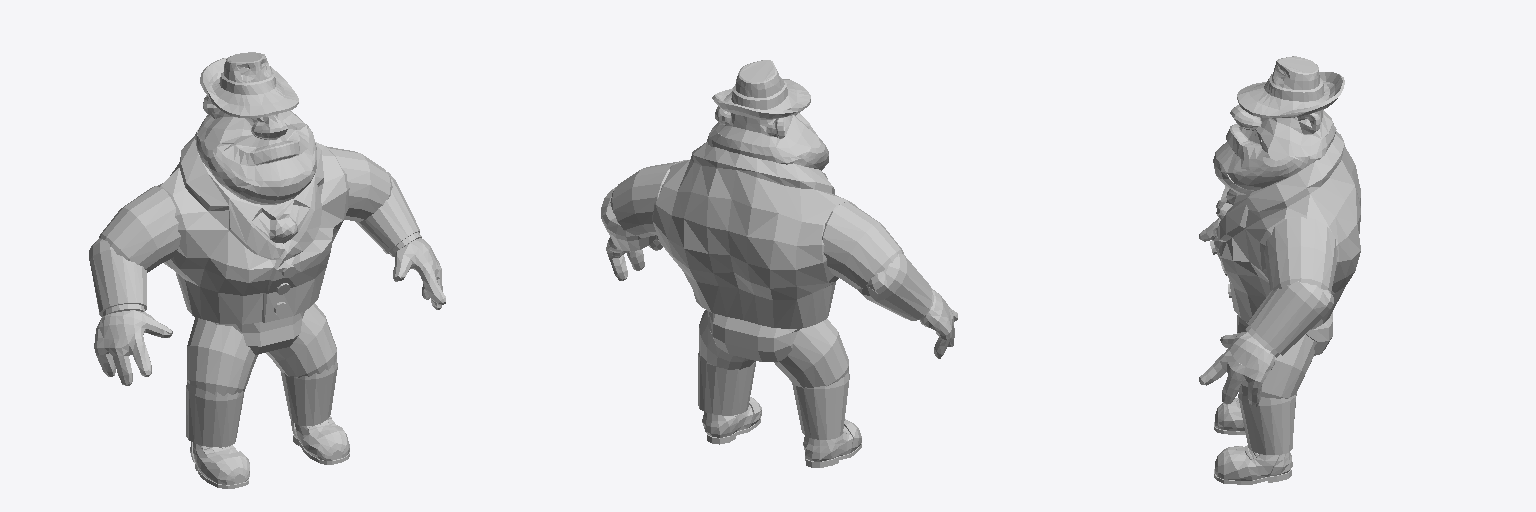
Rendered from _man.obj.
The picture shows the model from 3 angles: view 1: azimuth 30°, elevation 25°; view 2: azimuth 150°, elevation 25°; view 3: azimuth 270°, elevation 25°; orthographic projection.
Parts seen in each view (by area): view 1: coat, facial, uparmr, uplegr, hat, handr, lowlegr, lowarmr, uplegl, uparml, lowlegl, lowarml (+7 smaller); view 2: coat, uparmr, facial, uplegr, hat, pelvis, lowarmr, uparml, lowlegr, lowlegl, handr, uplegl (+5 smaller); view 3: coat, facial, uparml, lowarml, hat, handl, lowlegl, uplegl, shoe1l, band, shoe1r, pelvis (+1 smaller).
Part boxes in pixels (x1,y1,x2,y2): coat: (157, 136, 349, 324); facial: (195, 95, 316, 204); uparmr: (99, 186, 180, 272); uplegr: (187, 317, 258, 395); hat: (200, 52, 298, 118); handr: (94, 310, 172, 385); lowlegr: (186, 382, 244, 447); lowarmr: (89, 238, 146, 316); uplegl: (266, 303, 336, 377); uparml: (326, 146, 392, 221); lowlegl: (281, 359, 337, 425); lowarml: (356, 172, 419, 253); coat: (652, 142, 855, 328); uparmr: (822, 201, 903, 289); facial: (707, 106, 828, 170); uplegr: (774, 319, 848, 387); hat: (712, 60, 810, 119); pelvis: (708, 311, 799, 361); lowarmr: (858, 254, 932, 320); uparml: (610, 161, 680, 237); lowlegr: (792, 371, 849, 439); lowlegl: (698, 351, 755, 415); handr: (920, 288, 957, 358); uplegl: (699, 310, 755, 369); coat: (1213, 131, 1360, 329); facial: (1213, 105, 1336, 194); uparml: (1264, 217, 1337, 291); lowarml: (1247, 281, 1333, 355); hat: (1237, 56, 1344, 117); handl: (1199, 332, 1274, 406); lowlegl: (1238, 393, 1296, 454); uplegl: (1239, 331, 1314, 398); shoe1l: (1215, 446, 1292, 480); band: (1264, 74, 1324, 101); shoe1r: (1215, 398, 1244, 430); pelvis: (1237, 312, 1332, 355).
Bounding box in the file's own units: 2.28 × 2.47 × 0.9328.